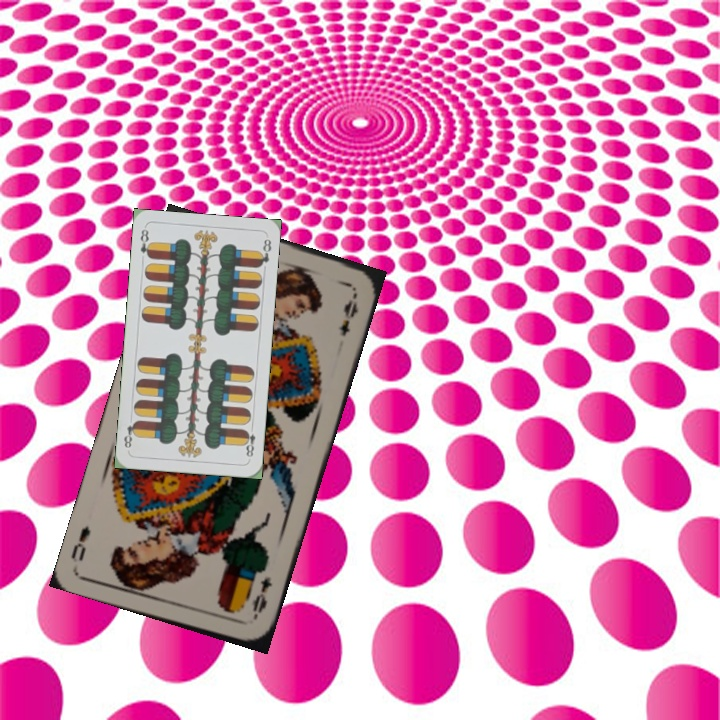E8: (240, 421, 258, 460), (136, 225, 154, 261)
EO: (248, 572, 275, 623)
